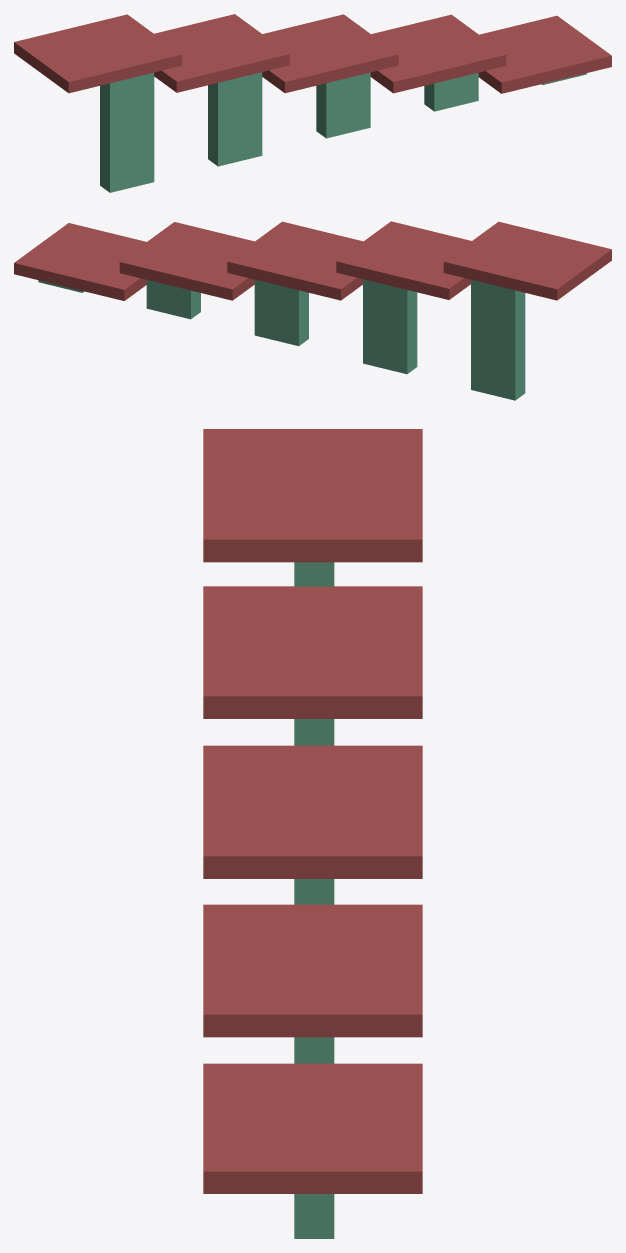
File: Bleacher Stairs.fbx
3 renders of one model, top to bottom at view 1: azimuth 30°, elevation 25°; view 2: azimuth 150°, elevation 25°; view 3: azimuth 270°, elevation 25°, orthographic. The views are drawn at different scales.
Parts seen in each view (by area): view 1: Bleacher_Stairs; view 2: Bleacher_Stairs; view 3: Bleacher_Stairs.
Boxes of the visible parts, x1=… form: Bleacher_Stairs: x1=14, y1=14, x2=611, y2=192; Bleacher_Stairs: x1=14, y1=221, x2=611, y2=400; Bleacher_Stairs: x1=203, y1=429, x2=422, y2=1238.
Size of the model in its own units: 12.27 by 3.09 by 2.14.
